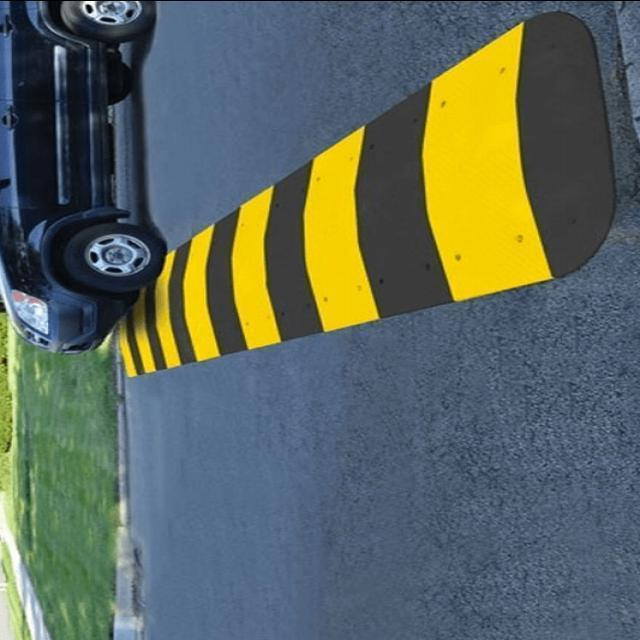speedbreaker: (96, 1, 622, 401)
